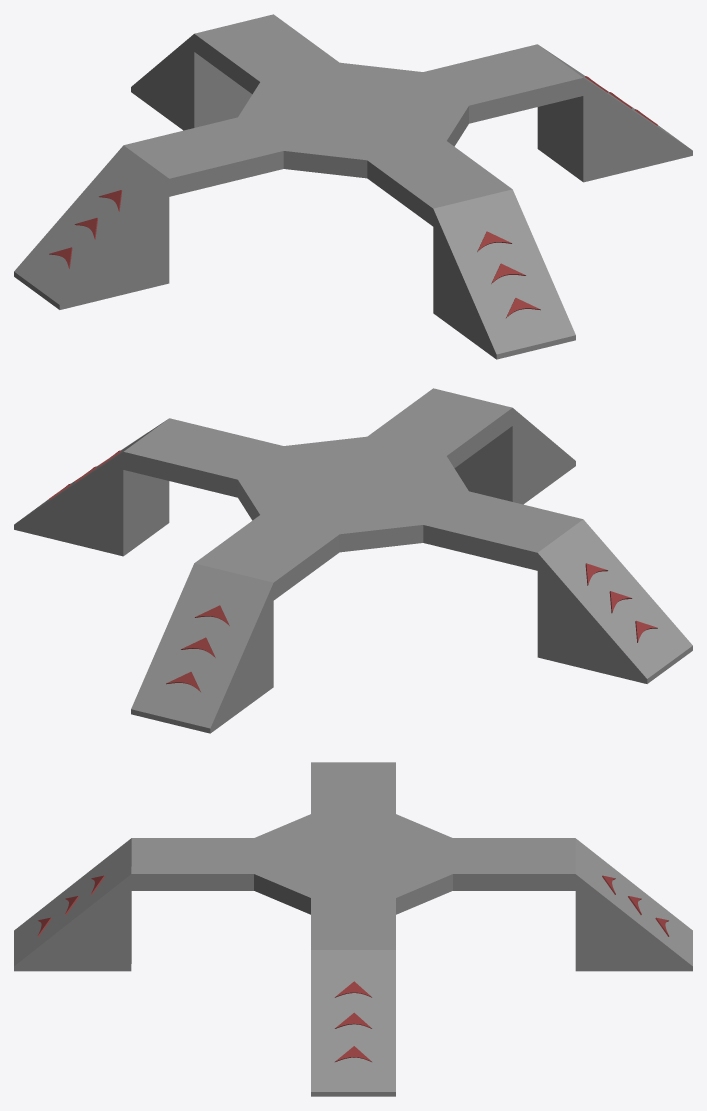
File: qiao02.fbx
3 views of the same model, one above another, from view 1: azimuth 30°, elevation 25°; view 2: azimuth 150°, elevation 25°; view 3: azimuth 270°, elevation 25° (orthographic). The views are drawn at different scales.
Visible parts, largest first — view 1: 对象011; view 2: 对象011; view 3: 对象011.
Boxes of the visible parts, x1=… form: 对象011: x1=14, y1=14, x2=692, y2=359; 对象011: x1=14, y1=388, x2=692, y2=733; 对象011: x1=14, y1=762, x2=692, y2=1096.
Size of the model in its own units: 2284 by 361 by 2284.
